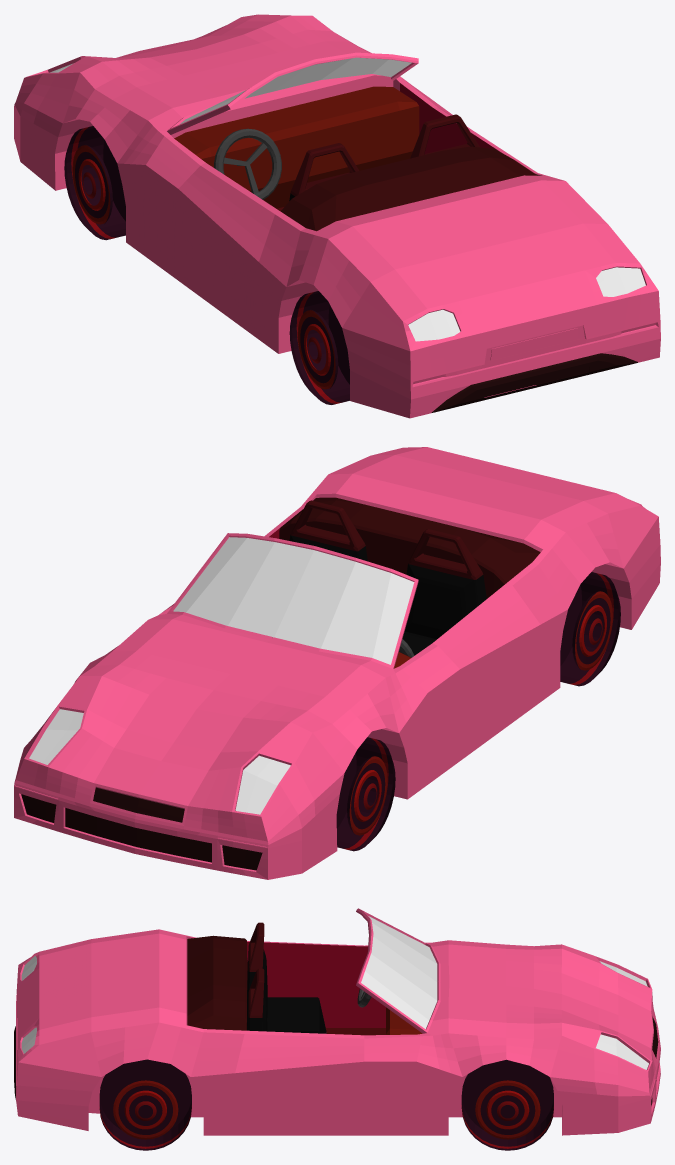
Rendered from car.fbx.
3 renders of one model, top to bottom at view 1: azimuth 30°, elevation 25°; view 2: azimuth 150°, elevation 25°; view 3: azimuth 270°, elevation 25°, orthographic. The views are drawn at different scales.
Visible parts, largest first — view 1: car, Circle.003; view 2: car, Circle.003; view 3: car, Circle.003.
Boxes of the visible parts, x1,y1,x2,y2 form: car: [14, 14, 660, 418]; Circle.003: [64, 126, 349, 404]; car: [14, 447, 660, 879]; Circle.003: [336, 572, 620, 851]; car: [14, 908, 660, 1135]; Circle.003: [99, 1059, 553, 1150].
Bounding box in the file's own units: 434 × 300 × 1063.
